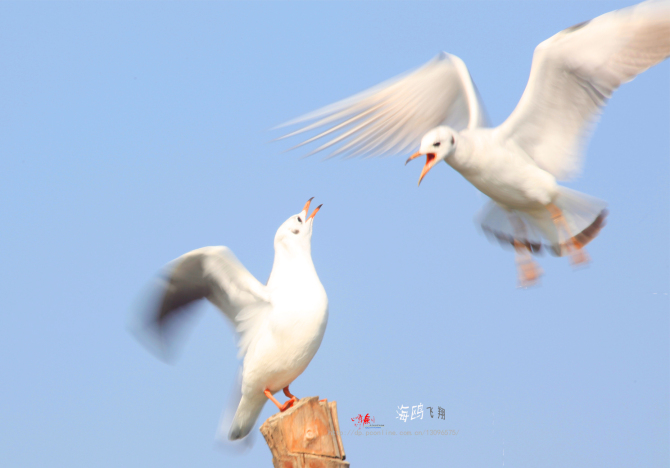bird: (269, 10, 670, 286), (125, 197, 333, 450)
